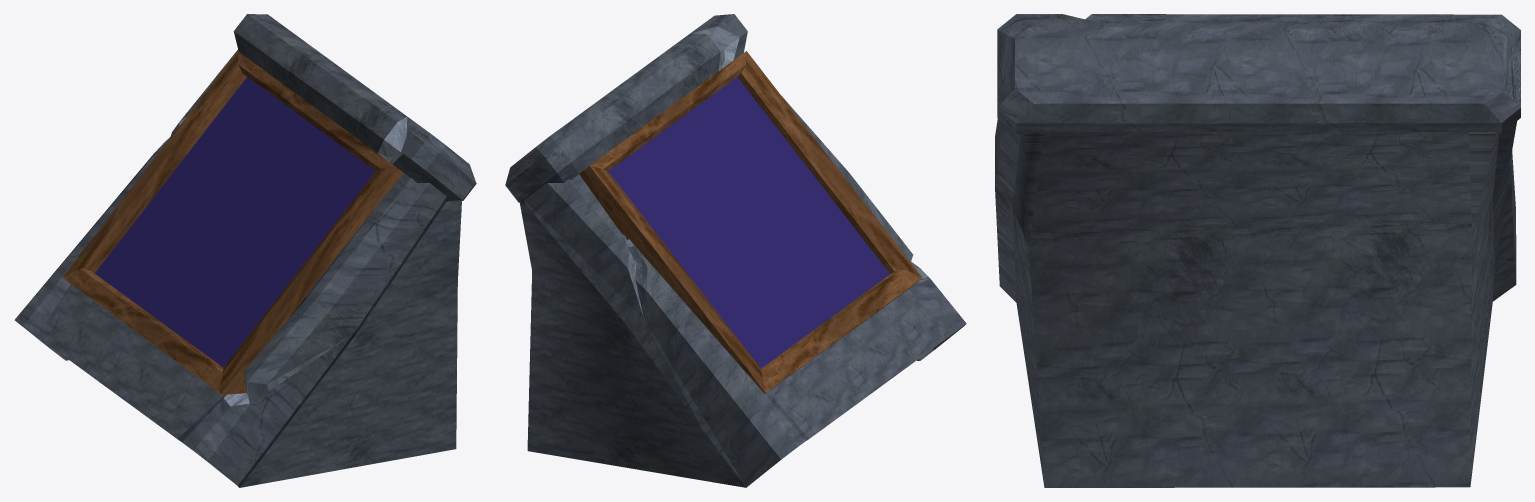
File: s0_Str_Pannel_Objective_01.glb
The picture shows the model from 3 angles, left to right: view 1: azimuth 30°, elevation 25°; view 2: azimuth 150°, elevation 25°; view 3: azimuth 270°, elevation 25°; orthographic projection. The views are drawn at different scales.
Visible parts, largest first — view 1: node_Str_Pannel_Objective; view 2: node_Str_Pannel_Objective; view 3: node_Str_Pannel_Objective.
Boxes of the visible parts, x1,y1,x2,y2 form: node_Str_Pannel_Objective: (14,14,476,487); node_Str_Pannel_Objective: (505,14,966,487); node_Str_Pannel_Objective: (995,14,1520,487).
Size of the model in its own units: 1.79 by 1.93 by 2.06.
4 materials, 3 textured.
